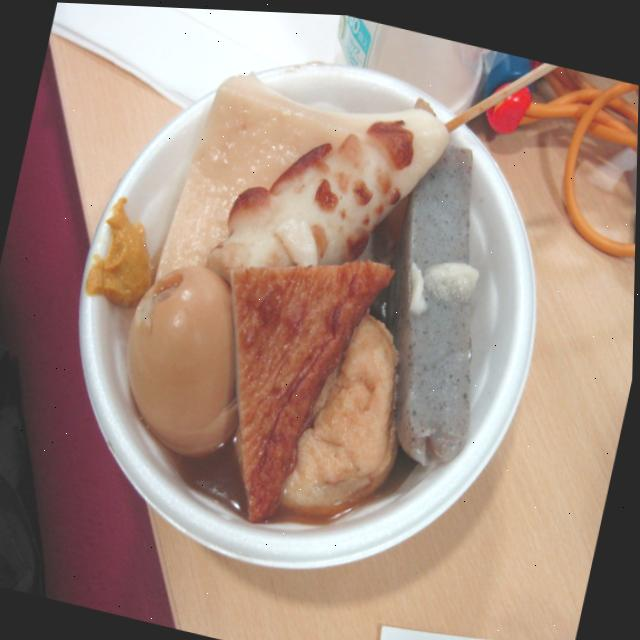汤锅炖物: (98, 52, 546, 564)
